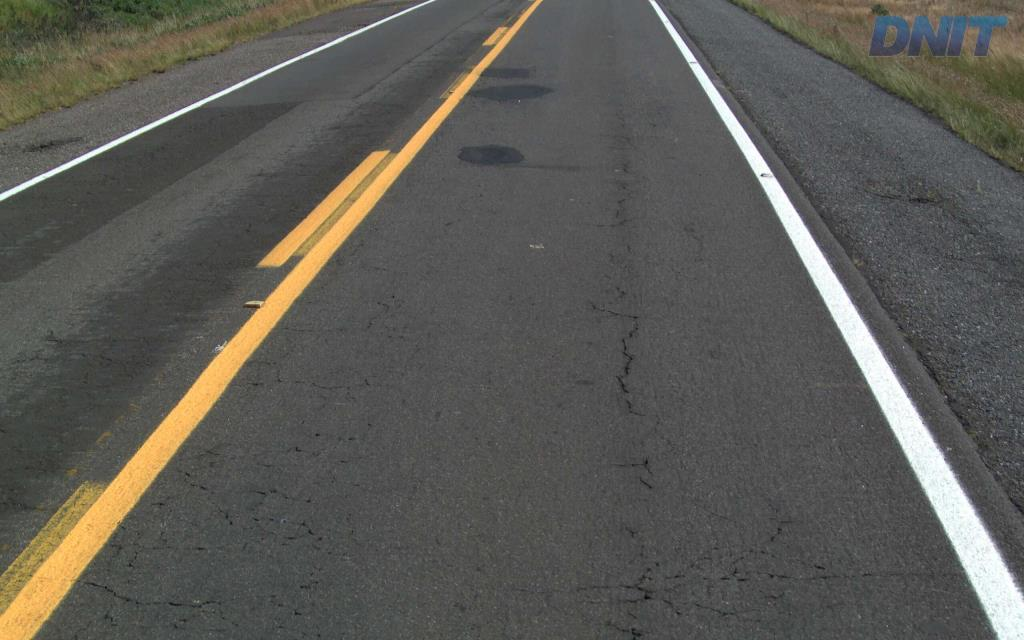crack: (83, 581, 227, 605)
